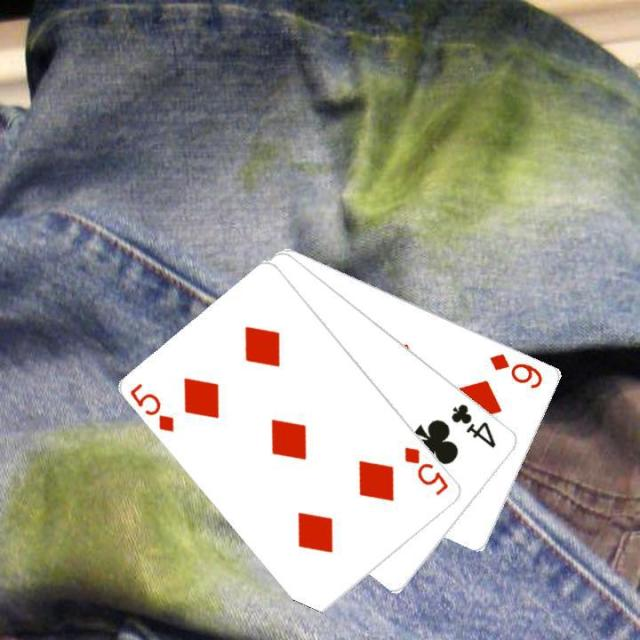4C: (447, 399, 499, 450)
5D: (400, 442, 452, 498), (126, 378, 177, 434)
6D: (486, 349, 546, 391)
